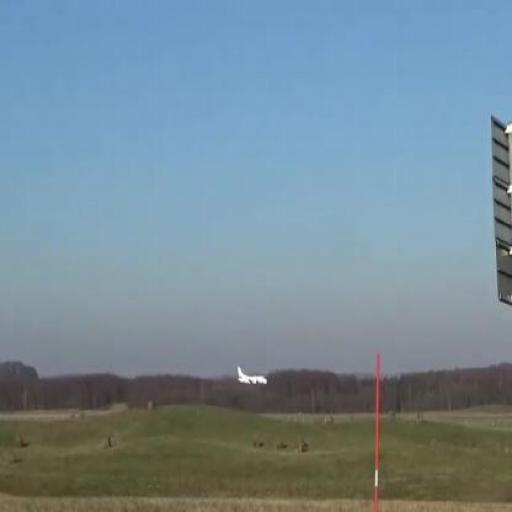aircraft: (236, 365, 267, 384)
